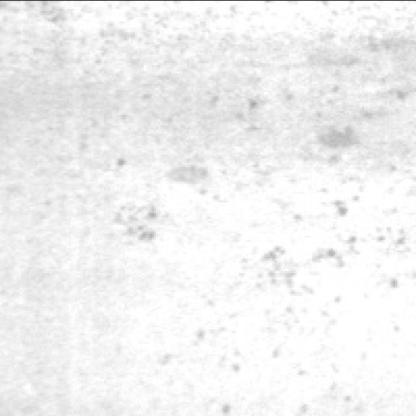pitted_surface: (173, 73, 416, 416)
